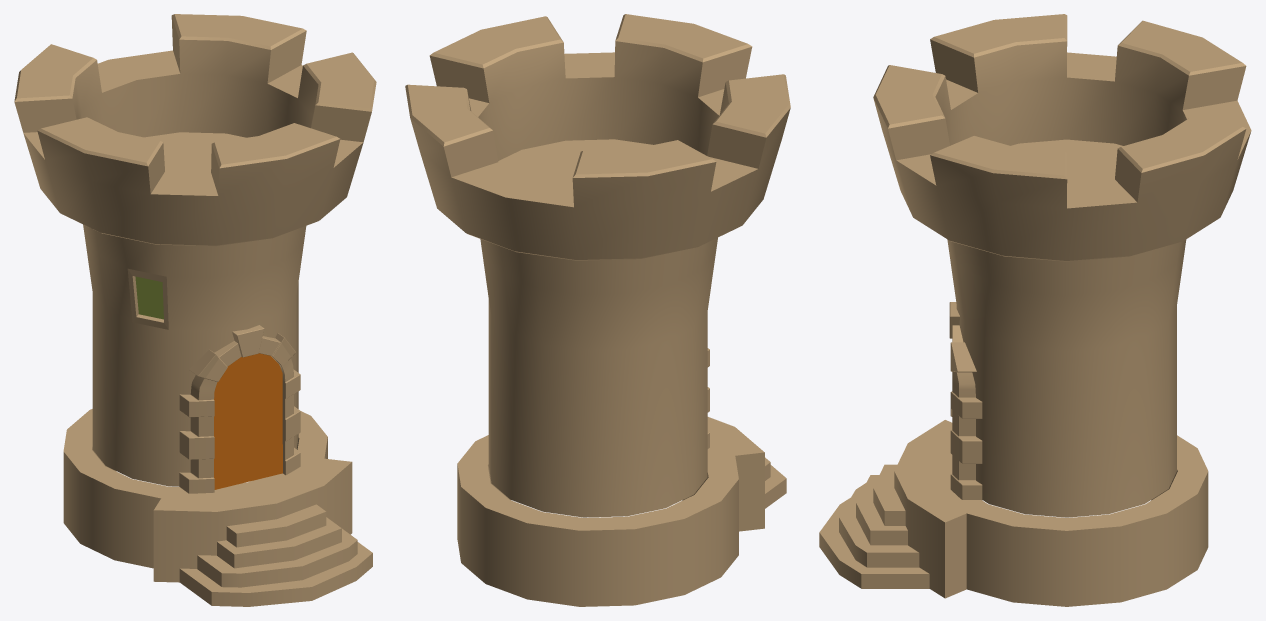
Rendered from Tower_01.fbx.
3 renders of one model, left to right at view 1: azimuth 30°, elevation 25°; view 2: azimuth 150°, elevation 25°; view 3: azimuth 270°, elevation 25°, orthographic. The views are drawn at different scales.
Parts seen in each view (by area): view 1: polySurface10; view 2: polySurface10; view 3: polySurface10.
Boxes of the visible parts, <box> form: polySurface10: <box>14,14,376,606</box>; polySurface10: <box>405,14,790,606</box>; polySurface10: <box>819,14,1251,606</box>.
Size of the model in its own units: 3.52 by 4.53 by 3.92.
